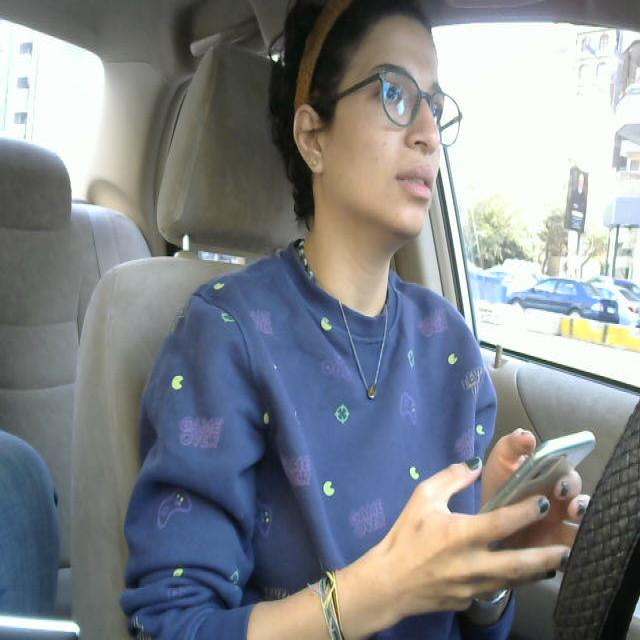mobile use: (458, 425, 599, 547)
